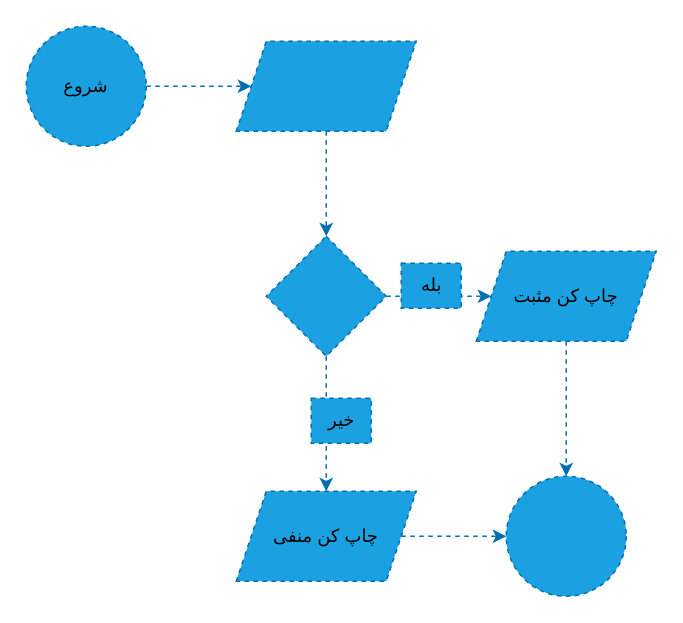
Image size: 683x623. Some labels were removed from this diagram. The shapes that lost their labels are listed below. From the top down, each one's box as (x1, y1, x2, y2) in pixels, then its label:
(235, 40, 416, 131): دریافت n
(265, 235, 386, 356): if n >= 0
(505, 475, 626, 596): پایان
